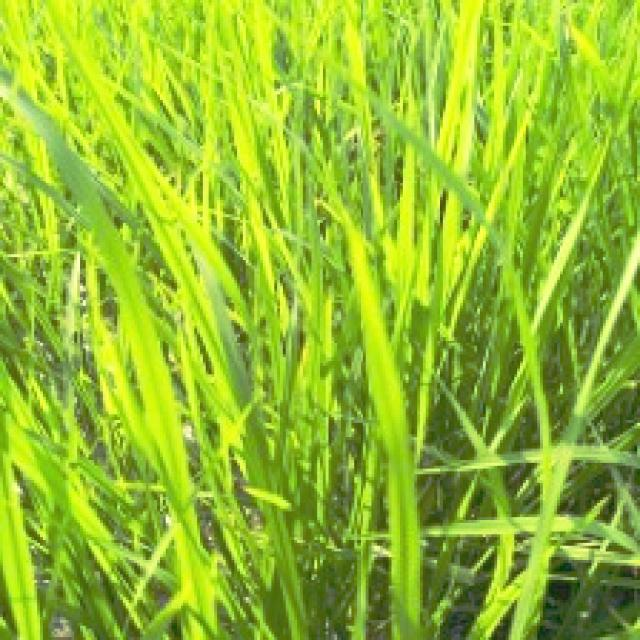health: (60, 0, 331, 640)
